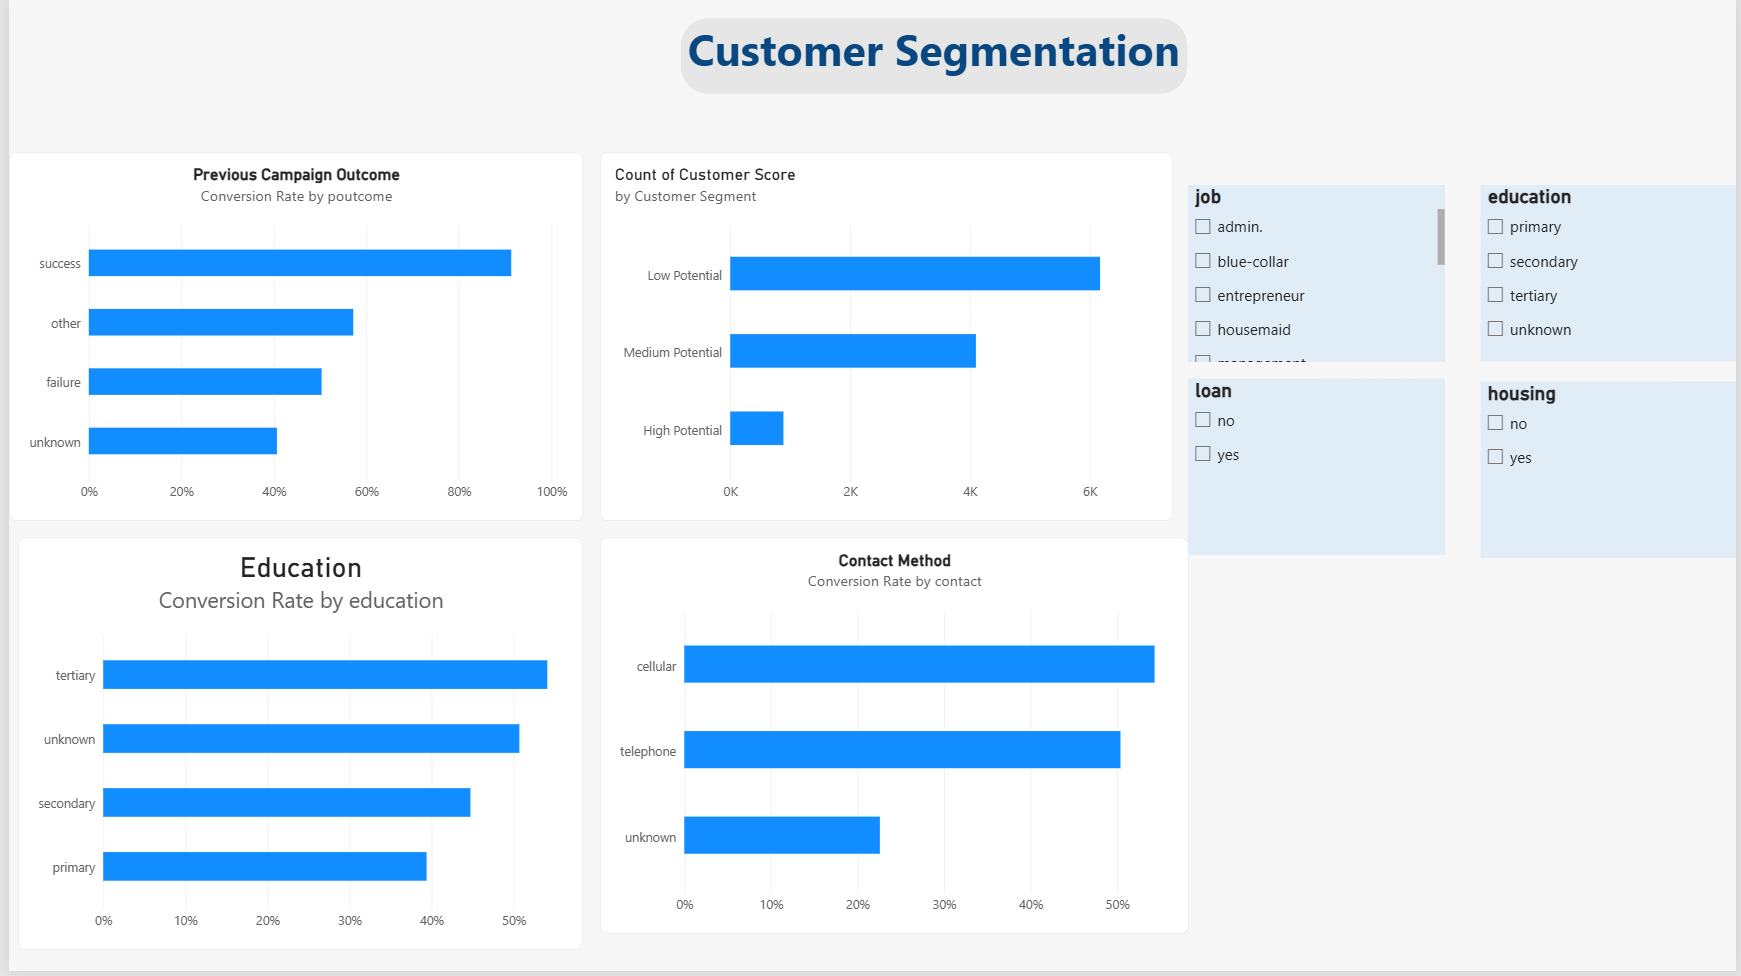

The page's visual inventory and layout, read from the dashboard file:
{"tool":"powerbi","page":{"name":"Page 2","canvas":[1920,1080],"ordinal":1},"visuals":[{"type":"barChart","title":"Contact Method","fields":{"Category":["bank.contact"],"Y":["bank.Conversion Rate"]},"box":[656,598,654,440],"z":0},{"type":"clusteredBarChart","title":"Previous Campaign Outcome","fields":{"Category":["bank.poutcome"],"Y":["bank.Conversion Rate"]},"box":[0,170,638,410],"z":1000},{"type":"barChart","title":"Education","fields":{"Category":["bank.education"],"Y":["bank.Conversion Rate"]},"box":[10,598,627.6,457.8],"z":2000},{"type":"textbox","box":[747.5,21.6,562.7,83.2],"z":3000},{"type":"slicer","fields":{"Values":["bank.job"]},"box":[1309.6,207.1,285,196],"z":5000},{"type":"slicer","fields":{"Values":["bank.housing"]},"box":[1635,424.9,285,196],"z":6000},{"type":"slicer","fields":{"Values":["bank.loan"]},"box":[1309.6,422.2,285,196],"z":7000},{"type":"slicer","fields":{"Values":["bank.education"]},"box":[1635,207.1,285,196],"z":8000},{"type":"barChart","fields":{"Category":["bank.Customer Segment"],"Y":["CountNonNull(bank.Customer Score)"]},"box":[656,170,636,410],"z":8001}]}

Visuals, with their boxes in screenshot pixels (x1, y1, x2, y2), scaled from the page's 1920x1080 canvas onto the 1741x976 screenshot:
"Contact Method" barChart: 595/540/1188/938
"Previous Campaign Outcome" clusteredBarChart: 0/154/579/524
"Education" barChart: 9/540/578/954
textbox: 678/20/1188/95
slicer - bank.job: 1188/187/1446/364
slicer - bank.housing: 1483/384/1740/561
slicer - bank.loan: 1188/382/1446/559
slicer - bank.education: 1483/187/1740/364
barChart - bank.Customer Segment x CountNonNull(bank.Customer Score): 595/154/1172/524
